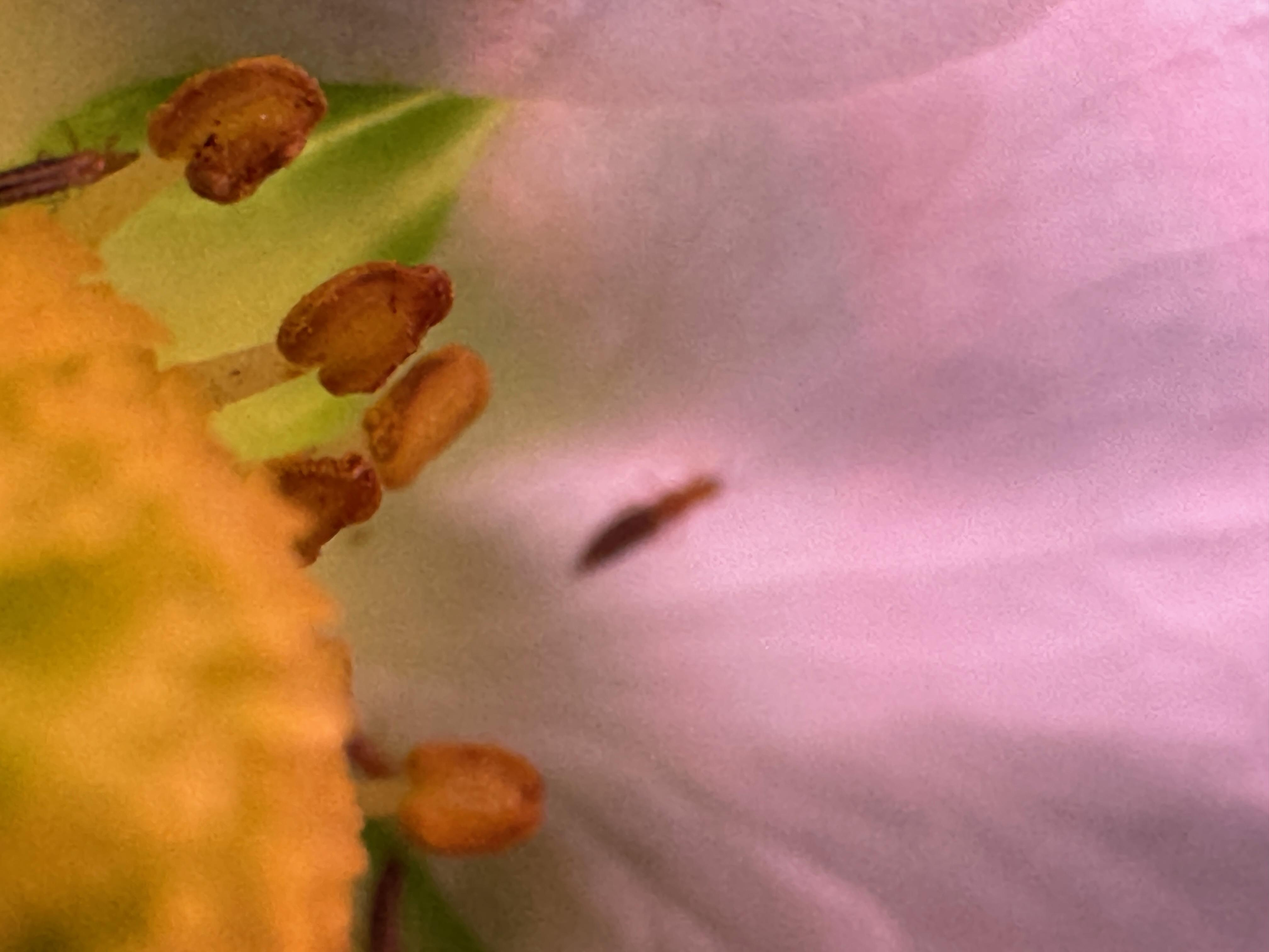tiny_pests: (0, 90, 184, 257)
